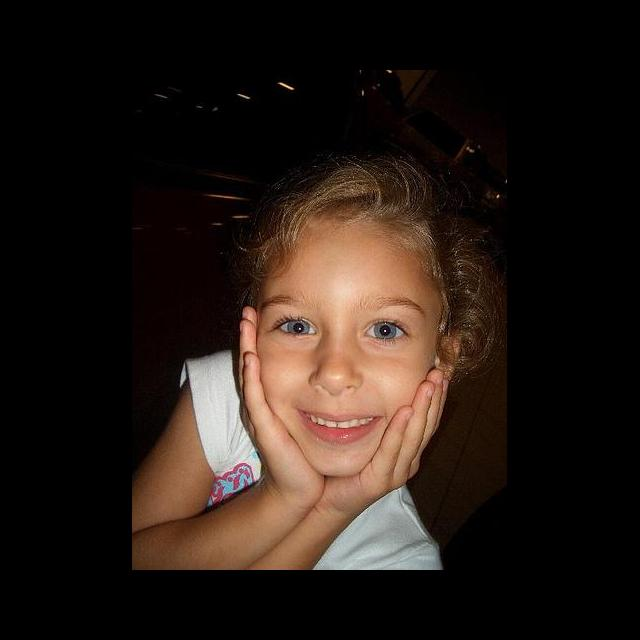NO-Hardhat: (256, 161, 492, 287)
NO-Mask: (256, 345, 445, 477)
NO-Safety Vest: (179, 348, 440, 570)
Person: (132, 156, 508, 570)
